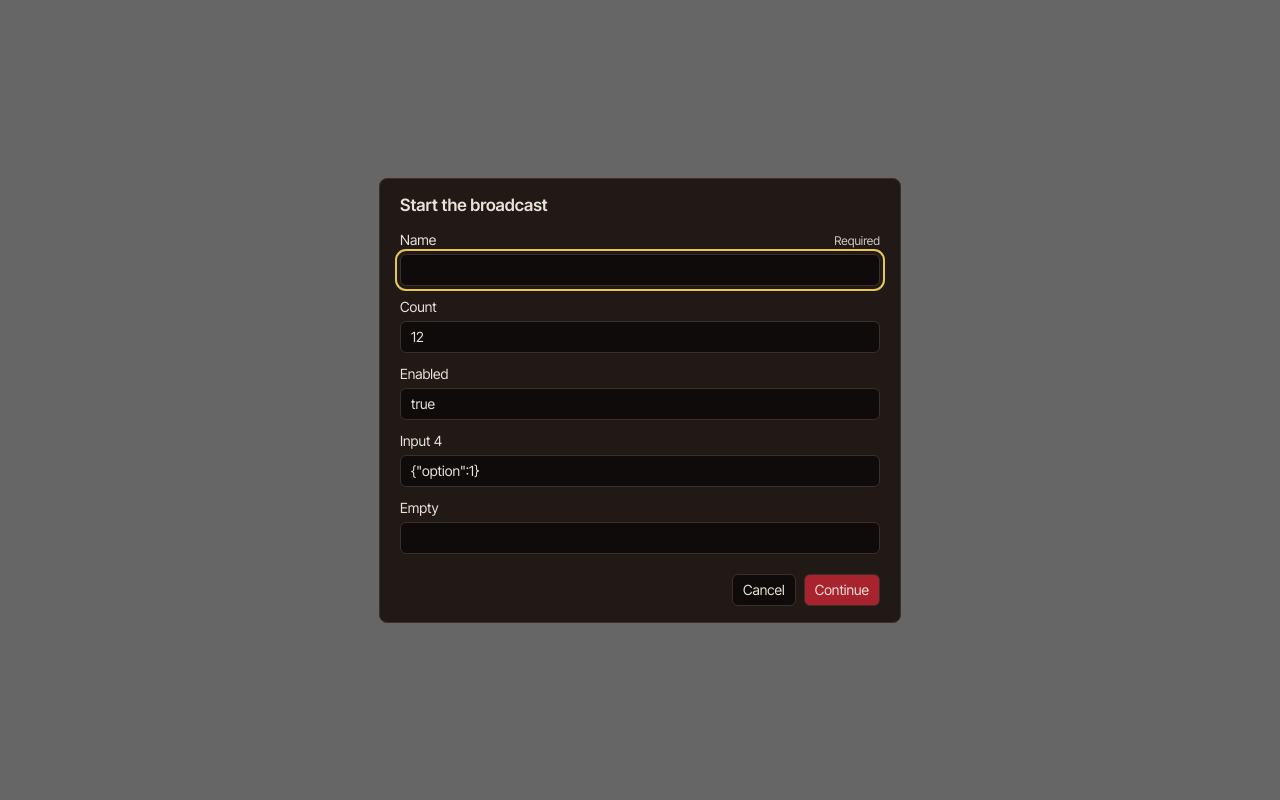
WorkflowInputDialog › uses resolved values before defaults and submits every field as a string
Expected: the field labelled "Name Required" is empty, [400,254,880,286]
Expected: the field labelled "Count" holds "12", [400,320,880,352]
Click the button "Continue". click: {"x": 842, "y": 590}
box: [804,574,880,606]
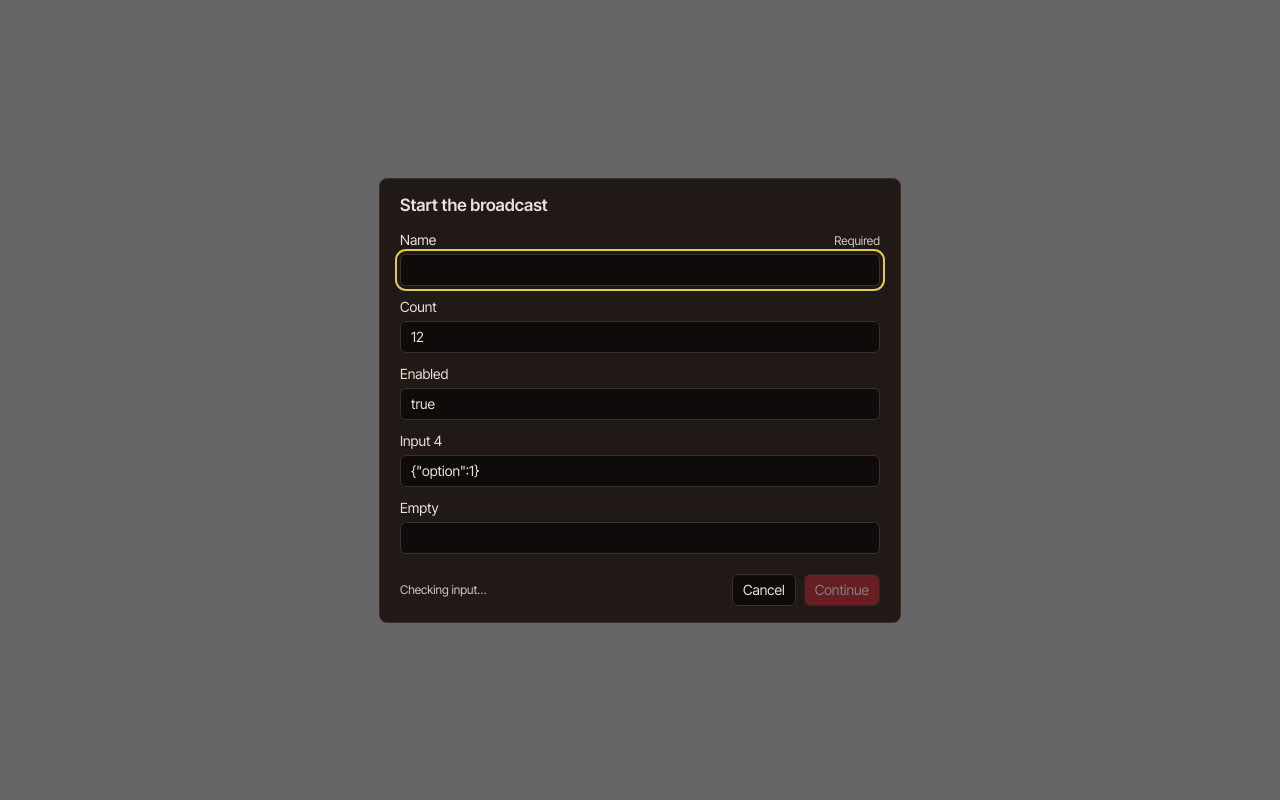
Expected: the button "Continue" is disabled, [804,574,880,606]
